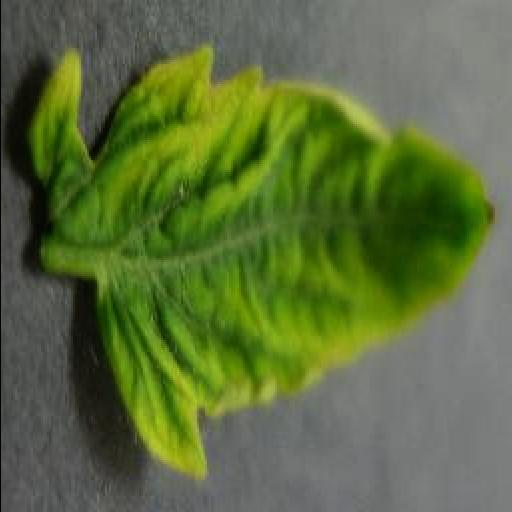disease_tomato: (28, 47, 502, 481)
